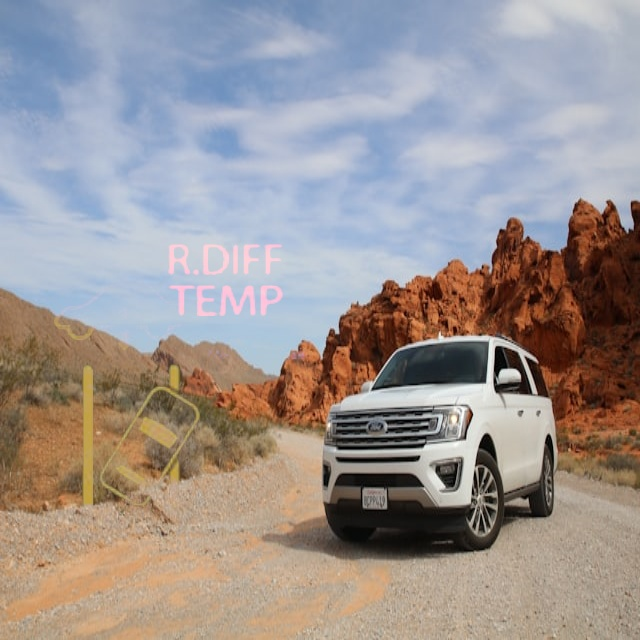symbol: (34, 335, 247, 548), (31, 232, 206, 407), (140, 196, 312, 368)
